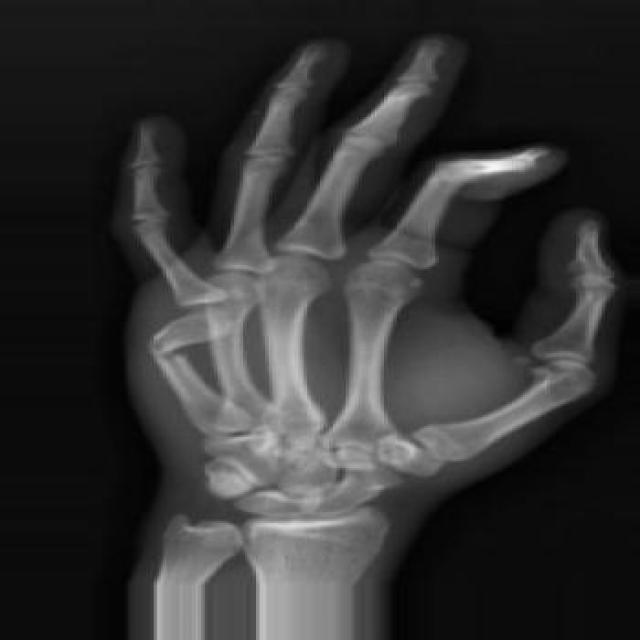Fracture: (125, 333, 197, 363)
